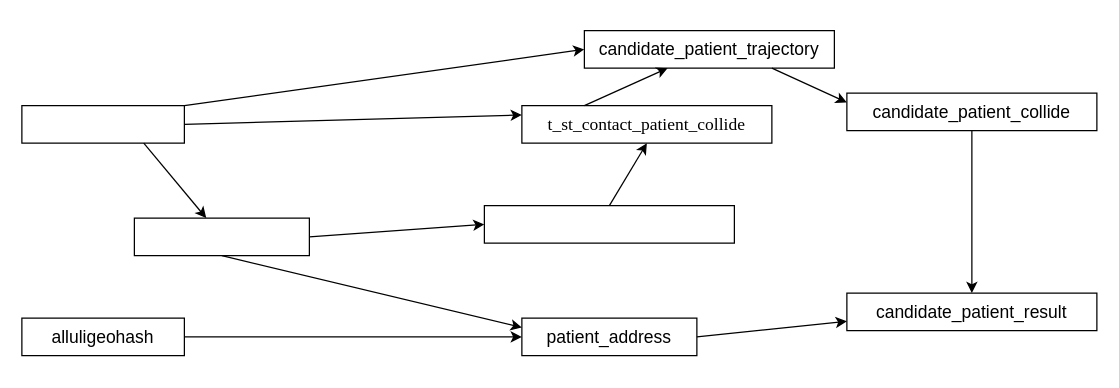
This 1119x388 diagram has some shape labels left out. The box of each missing label's shape, as (x1, y1, x2, y2) in pixels:
patient_trajectory: (133, 217, 309, 256)
patient_trajectory_complete: (483, 204, 734, 243)
t_iie_trajectory: (21, 104, 184, 143)
